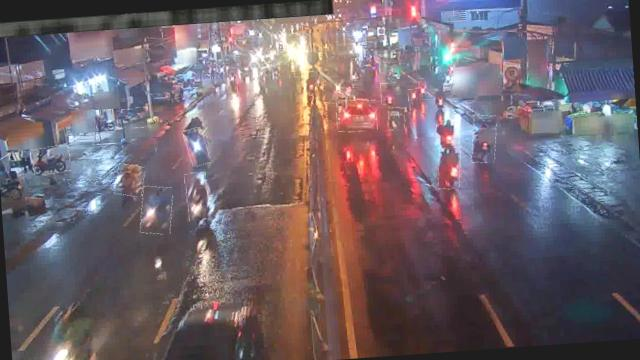Bike: (138, 185, 173, 234), (435, 136, 463, 190), (470, 114, 498, 164), (31, 144, 71, 175), (185, 171, 209, 220), (114, 162, 145, 197), (184, 127, 209, 166), (434, 119, 460, 149), (116, 107, 148, 129), (386, 106, 406, 130), (302, 71, 318, 96), (380, 82, 398, 104), (408, 88, 423, 112), (433, 84, 446, 111), (227, 67, 240, 93)
Car: (335, 98, 378, 133)
